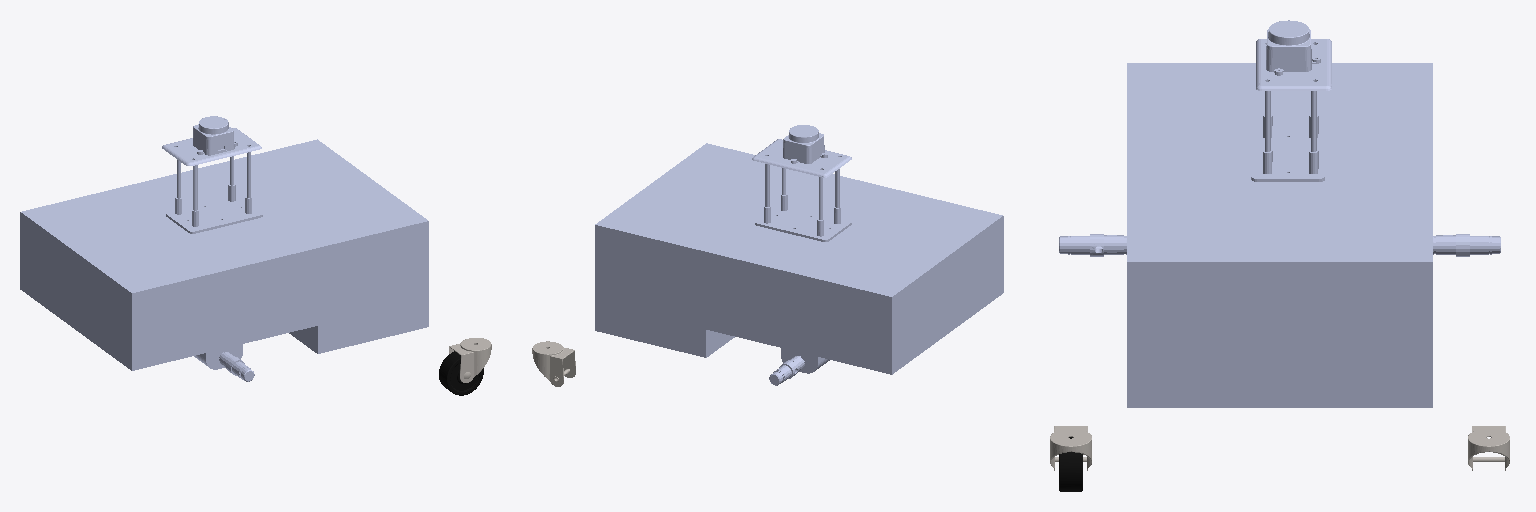
robot.urdf — Robot_mesero_URDF:
<?xml version="1.0" encoding="utf-8"?>
<!-- This URDF was automatically created by SolidWorks to URDF Exporter! Originally created by [author] ([email redacted]) 
     Commit Version: 1.6.0-4-g7f85cfe  Build Version: 1.6.7995.38578
     For more information, please see http://wiki.ros.org/sw_urdf_exporter -->
<robot
  name="Robot_mesero_URDF">
  <link
    name="base_link">
    <inertial>
      <origin
        xyz="0.000165211850644831 -8.73896200420665E-06 0.432528590081061"
        rpy="0 0 0" />
      <mass
        value="85.8884379566327" />
      <inertia
        ixx="1.82910251215775"
        ixy="-1.19238354712361E-05"
        ixz="0.000257431001618049"
        iyy="2.32684787340673"
        iyz="1.17780410480692E-05"
        izz="3.16843781159352" />
    </inertial>
    <visual>
      <origin
        xyz="0 0 0"
        rpy="0 0 0" />
      <geometry>
        <mesh
          filename="package://Robot_mesero_URDF/meshes/base_link.STL" />
      </geometry>
      <material
        name="">
        <color
          rgba="0.792156862745098 0.819607843137255 0.933333333333333 1" />
      </material>
    </visual>
    <collision>
      <origin
        xyz="0 0 0"
        rpy="0 0 0" />
      <geometry>
        <mesh
          filename="package://Robot_mesero_URDF/meshes/base_link.STL" />
      </geometry>
    </collision>
  </link>
  <link
    name="wheel_left_link">
    <inertial>
      <origin
        xyz="-2.8058E-08 2.6662E-08 0.0015805"
        rpy="0 0 0" />
      <mass
        value="0.65544" />
      <inertia
        ixx="0.0015514"
        ixy="2.0654E-10"
        ixz="5.4434E-09"
        iyy="0.0015514"
        iyz="-3.8789E-11"
        izz="0.0029017" />
    </inertial>
    <visual>
      <origin
        xyz="0 0 0"
        rpy="0 0 0" />
      <geometry>
        <mesh
          filename="package://Robot_mesero_URDF/meshes/wheel_left_link.STL" />
      </geometry>
      <material
        name="">
        <color
          rgba="0.79216 0.81961 0.93333 1" />
      </material>
    </visual>
    <collision>
      <origin
        xyz="0 0 0"
        rpy="0 0 0" />
      <geometry>
        <mesh
          filename="package://Robot_mesero_URDF/meshes/wheel_left_link.STL" />
      </geometry>
    </collision>
  </link>
  <joint
    name="wheel_left_joint"
    type="continuous">
    <origin
      xyz="-0.125 0.1824 -0.0155"
      rpy="-1.5708 0 0" />
    <parent
      link="base_link" />
    <child
      link="wheel_left_link" />
    <axis
      xyz="0 0 1" />
    <limit
      effort="100"
      velocity="100" />
    <dynamics
      damping="0.1"
      friction="0.1" />
  </joint>
  <link
    name="wheel_right_link">
    <inertial>
      <origin
        xyz="-4.1059E-08 -2.6654E-08 -0.0015805"
        rpy="0 0 0" />
      <mass
        value="0.65544" />
      <inertia
        ixx="0.0015514"
        ixy="-2.069E-10"
        ixz="5.7341E-09"
        iyy="0.0015514"
        iyz="-3.8871E-11"
        izz="0.0029017" />
    </inertial>
    <visual>
      <origin
        xyz="0 0 0"
        rpy="0 0 0" />
      <geometry>
        <mesh
          filename="package://Robot_mesero_URDF/meshes/wheel_right_link.STL" />
      </geometry>
      <material
        name="">
        <color
          rgba="0.79216 0.81961 0.93333 1" />
      </material>
    </visual>
    <collision>
      <origin
        xyz="0 0 0"
        rpy="0 0 0" />
      <geometry>
        <mesh
          filename="package://Robot_mesero_URDF/meshes/wheel_right_link.STL" />
      </geometry>
    </collision>
  </link>
  <joint
    name="wheel_right_joint"
    type="continuous">
    <origin
      xyz="-0.125 -0.1824 -0.0155"
      rpy="1.5708 0 3.1416" />
    <parent
      link="base_link" />
    <child
      link="wheel_right_link" />
    <axis
      xyz="0 0 1" />
    <limit
      effort="100"
      velocity="100" />
    <dynamics
      damping="0.1"
      friction="0.1" />
  </joint>
  <link
    name="castor_base_L_link">
    <inertial>
      <origin
        xyz="-0.0083614 0.00017719 0.010491"
        rpy="0 0 0" />
      <mass
        value="0.030593" />
      <inertia
        ixx="8.6624E-06"
        ixy="2.4444E-10"
        ixz="1.704E-06"
        iyy="8.4062E-06"
        iyz="-3.4024E-10"
        izz="9.8595E-06" />
    </inertial>
    <visual>
      <origin
        xyz="0 0 0"
        rpy="0 0 0" />
      <geometry>
        <mesh
          filename="package://Robot_mesero_URDF/meshes/castor_base_L_link.STL" />
      </geometry>
      <material
        name="">
        <color
          rgba="0.78039 0.76078 0.74118 1" />
      </material>
    </visual>
    <collision>
      <origin
        xyz="0 0 0"
        rpy="0 0 0" />
      <geometry>
        <mesh
          filename="package://Robot_mesero_URDF/meshes/castor_base_L_link.STL" />
      </geometry>
    </collision>
  </link>
  <joint
    name="castor_base_L_joint"
    type="continuous">
    <origin
      xyz="0.236 0.1775 -0.0506"
      rpy="-3.1416 0 0" />
    <parent
      link="base_link" />
    <child
      link="castor_base_L_link" />
    <axis
      xyz="0 0 1" />
    <limit
      effort="100"
      velocity="100" />
    <dynamics
      damping="0.1"
      friction="0.1" />
  </joint>
  <link
    name="castor_wheel_L_link">
    <inertial>
      <origin
        xyz="-1.11022302462516E-16 -4.35207425653061E-14 -5.55111512312578E-16"
        rpy="0 0 0" />
      <mass
        value="0.0336706801177874" />
      <inertia
        ixx="6.36596965856411E-06"
        ixy="7.47658425633633E-21"
        ixz="-1.58199295078356E-21"
        iyy="6.36596965856409E-06"
        iyz="3.18892996557024E-20"
        izz="1.08435063670461E-05" />
    </inertial>
    <visual>
      <origin
        xyz="0 0 0"
        rpy="0 0 0" />
      <geometry>
        <mesh
          filename="package://Robot_mesero_URDF/meshes/castor_wheel_L_link.STL" />
      </geometry>
      <material
        name="">
        <color
          rgba="0.109803921568627 0.109803921568627 0.109803921568627 1" />
      </material>
    </visual>
    <collision>
      <origin
        xyz="0 0 0"
        rpy="0 0 0" />
      <geometry>
        <mesh
          filename="package://Robot_mesero_URDF/meshes/castor_wheel_L_link.STL" />
      </geometry>
    </collision>
  </link>
  <joint
    name="castor_wheel_L_joint"
    type="continuous">
    <origin
      xyz="-0.019934 0 0.0295"
      rpy="1.5708 0 0" />
    <parent
      link="castor_base_L_link" />
    <child
      link="castor_wheel_L_link" />
    <axis
      xyz="0 0 1" />
    <limit
      effort="100"
      velocity="100" />
    <dynamics
      damping="0.1"
      friction="0.1" />
  </joint>
  <link
    name="castor_base_R_link">
    <inertial>
      <origin
        xyz="-0.00836141679691838 0.000177188135569883 0.0104913734347865"
        rpy="0 0 0" />
      <mass
        value="0.0305932213251027" />
      <inertia
        ixx="8.662396335214E-06"
        ixy="2.44437761939695E-10"
        ixz="1.7039828406361E-06"
        iyy="8.40624476511693E-06"
        iyz="-3.40244805741926E-10"
        izz="9.85948397193607E-06" />
    </inertial>
    <visual>
      <origin
        xyz="0 0 0"
        rpy="0 0 0" />
      <geometry>
        <mesh
          filename="package://Robot_mesero_URDF/meshes/castor_base_R_link.STL" />
      </geometry>
      <material
        name="">
        <color
          rgba="0.780392156862745 0.76078431372549 0.741176470588235 1" />
      </material>
    </visual>
    <collision>
      <origin
        xyz="0 0 0"
        rpy="0 0 0" />
      <geometry>
        <mesh
          filename="package://Robot_mesero_URDF/meshes/castor_base_R_link.STL" />
      </geometry>
    </collision>
  </link>
  <joint
    name="castor_base_R_joint"
    type="continuous">
    <origin
      xyz="0.236 -0.1775 -0.0506"
      rpy="-3.1416 0 0" />
    <parent
      link="base_link" />
    <child
      link="castor_base_R_link" />
    <axis
      xyz="0 0 1" />
    <limit
      effort="100"
      velocity="100" />
    <dynamics
      damping="0.1"
      friction="0.1" />
  </joint>
  <link
    name="castor_wheel_R_link">
    <inertial>
      <origin
        xyz="-1.11022302462516E-16 -1.07913677993565E-13 -3.33066907387547E-16"
        rpy="0 0 0" />
      <mass
        value="0.0336706801177873" />
      <inertia
        ixx="6.36596965856411E-06"
        ixy="6.5388129046162E-21"
        ixz="-5.54548866214357E-21"
        iyy="6.36596965856409E-06"
        iyz="3.18423654633245E-20"
        izz="1.08435063670461E-05" />
    </inertial>
    <visual>
      <origin
        xyz="0 0 0"
        rpy="0 0 0" />
      <geometry>
        <mesh
          filename="package://Robot_mesero_URDF/meshes/castor_wheel_R_link.STL" />
      </geometry>
      <material
        name="">
        <color
          rgba="0.109803921568627 0.109803921568627 0.109803921568627 1" />
      </material>
    </visual>
    <collision>
      <origin
        xyz="0 0 0"
        rpy="0 0 0" />
      <geometry>
        <mesh
          filename="package://Robot_mesero_URDF/meshes/castor_wheel_R_link.STL" />
      </geometry>
    </collision>
  </link>
  <joint
    name="castor_wheel_R_joint"
    type="continuous">
    <origin
      xyz="-0.019934 0 0.0295"
      rpy="1.5708 0 0" />
    <parent
      link="castor_base_R_link" />
    <child
      link="castor_wheel_R_link" />
    <axis
      xyz="0 0 1" />
    <limit
      effort="100"
      velocity="100" />
    <dynamics
      damping="0.1"
      friction="0.1" />
  </joint>
</robot>

--- Facts derived from the render (not from the file) ---
3 views of the same robot in one strip: view 1: azimuth 30°, elevation 25°; view 2: azimuth 150°, elevation 25°; view 3: azimuth 270°, elevation 25° (orthographic).
Robot: Robot_mesero_URDF — 7 links, 6 joints (6 continuous); root link base_link; default pose: every joint at zero.
Links seen in each view (by area): view 1: base_link, castor_base_R_link, castor_wheel_R_link; view 2: base_link, castor_base_L_link; view 3: base_link, castor_base_L_link, castor_base_R_link, castor_wheel_R_link.
Boxes of the visible links, x1,y1,x2,y2 form: base_link: (20, 116, 428, 381); castor_base_R_link: (449, 338, 491, 382); castor_wheel_R_link: (439, 351, 483, 395); base_link: (595, 125, 1003, 385); castor_base_L_link: (532, 341, 575, 386); base_link: (1059, 20, 1500, 407); castor_base_L_link: (1468, 426, 1509, 470); castor_base_R_link: (1050, 426, 1091, 470); castor_wheel_R_link: (1059, 437, 1082, 491).
Size in the robot's own frame: 0.454 by 0.391 by 0.3254 metres.
4 mesh visuals loaded from 7 distinct referenced files (4 binary STL); not drawn: 3 (reference not matched to a file when rendering).